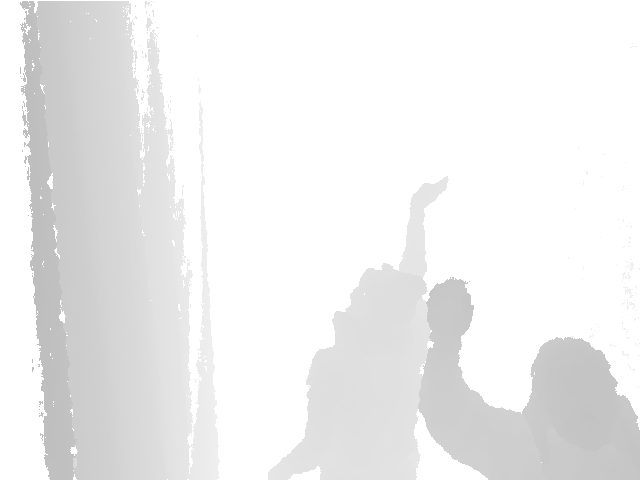hand: (427, 279, 474, 334), (410, 176, 447, 209)
head: (529, 337, 621, 450), (348, 263, 427, 319)
person: (263, 176, 446, 480), (416, 279, 640, 479)
